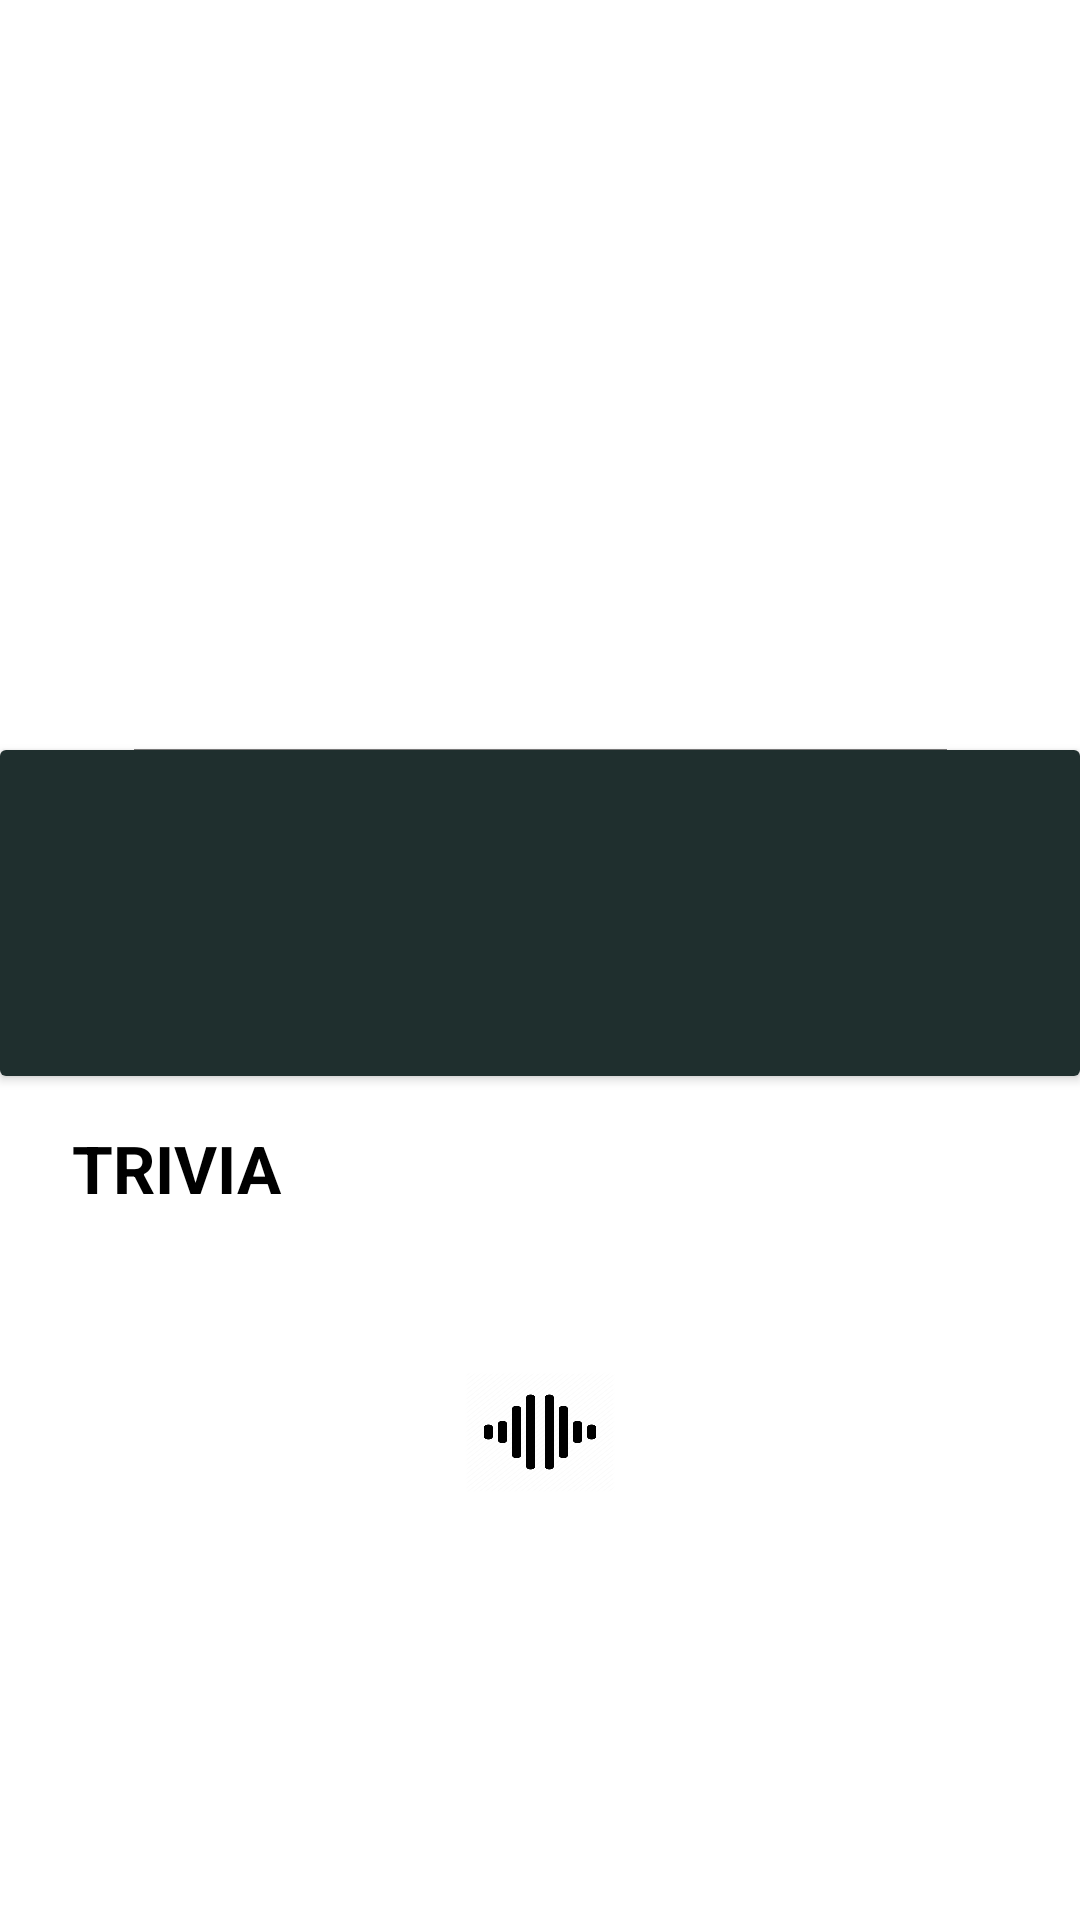

Point at icon controls on the screen. Image size 1080×1920, points as (x,y).
Gambar Icon: (540,1432)
